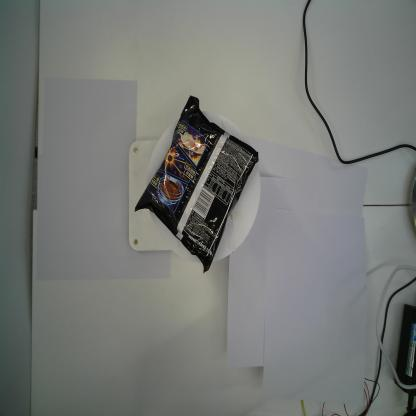Instant Noodles: (133, 91, 261, 276)
